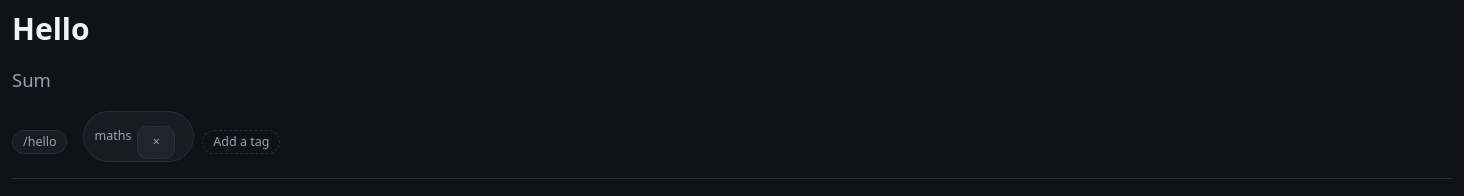
Test case: the slug pill › accepts only lower-case letters, digits and hyphens, up to 100
Click the button "/hello" at coordinates (40, 142), box x1=12 y1=130 x2=68 y2=154
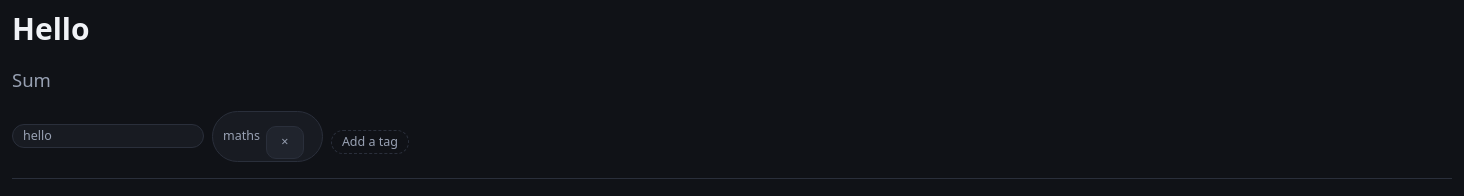
Replace the text in the field named "Slug" with "Hello World!" at coordinates (108, 136), box x1=12 y1=124 x2=204 y2=148
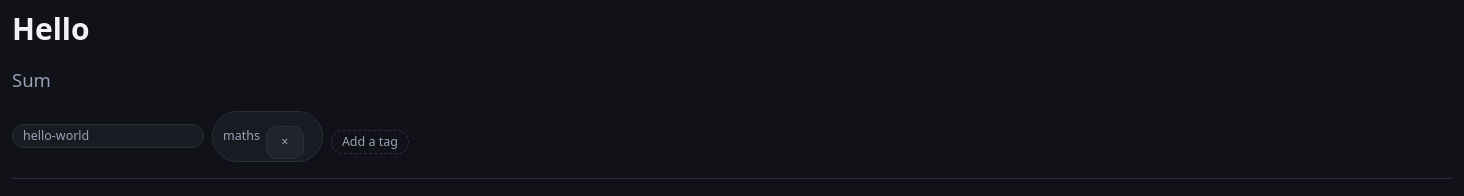
Expected: the field named "Slug" holds "hello-world", x1=12 y1=124 x2=204 y2=148
